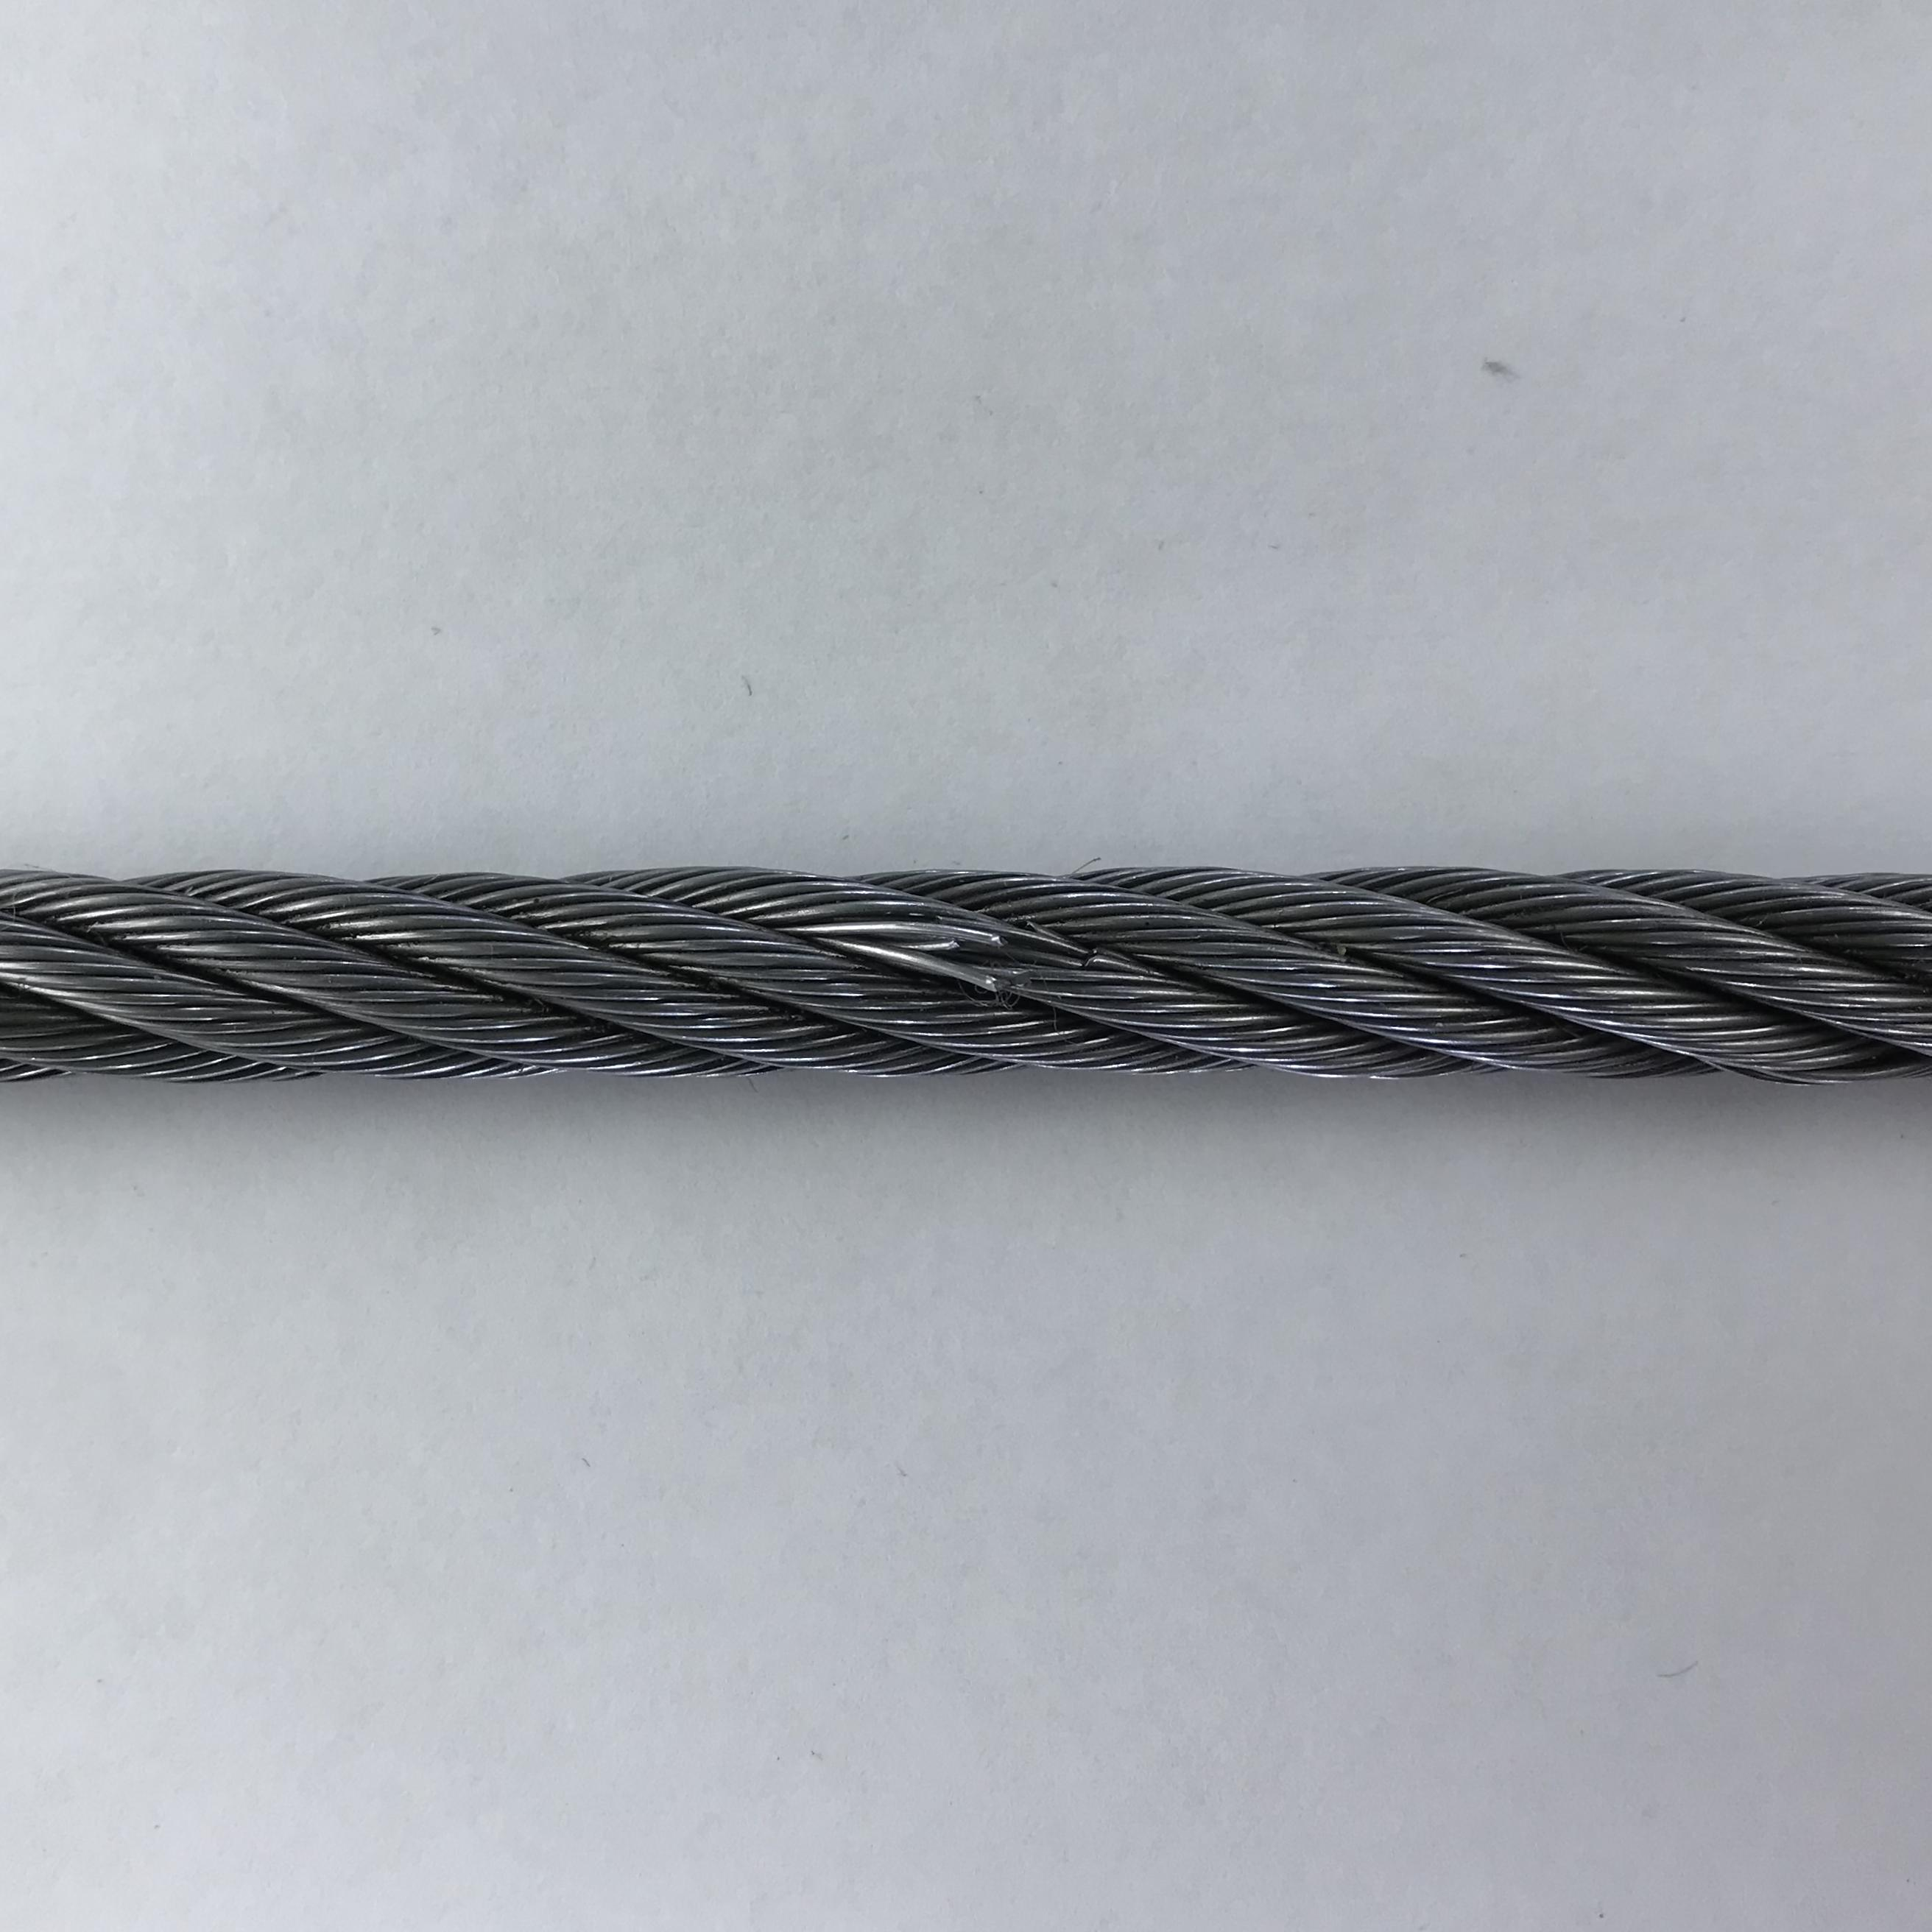break: (886, 904, 1131, 1007)
